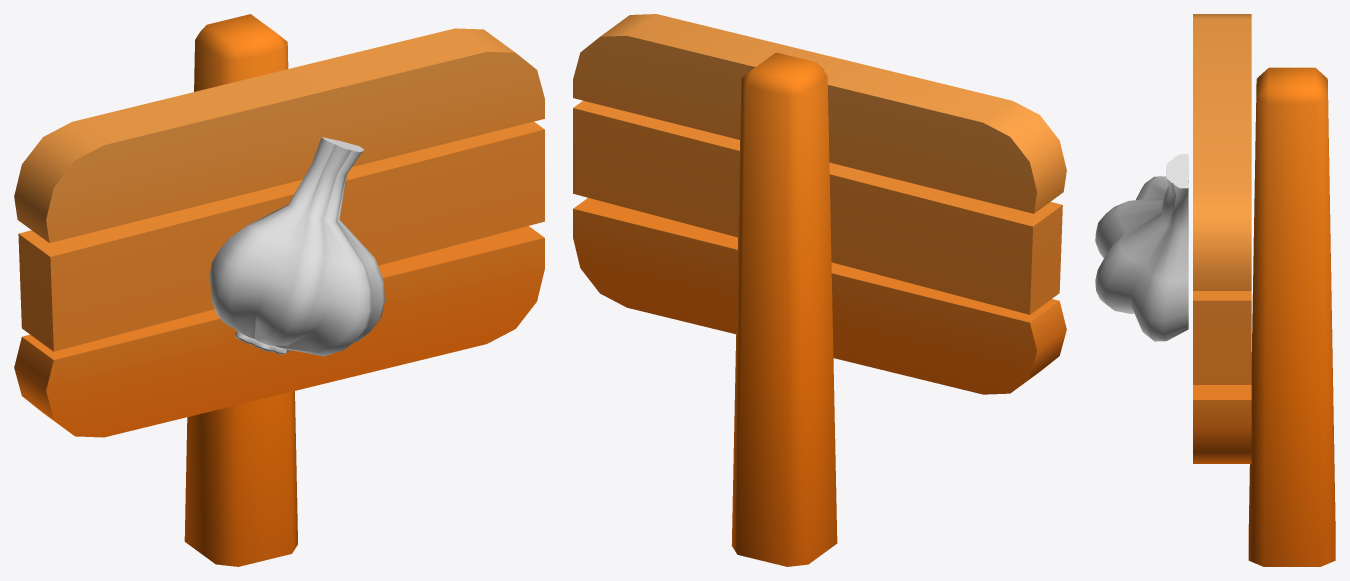
The model's file is Farm_Crop_Sign_Garlic_01.fbx.
3 renders of one model, left to right at view 1: azimuth 30°, elevation 25°; view 2: azimuth 150°, elevation 25°; view 3: azimuth 270°, elevation 25°, orthographic. The views are drawn at different scales.
Visible parts, largest first — view 1: Farm_Crop_Sign_Garlic_01; view 2: Farm_Crop_Sign_Garlic_01; view 3: Farm_Crop_Sign_Garlic_01.
Boxes of the visible parts, x1,y1,x2,y2 form: Farm_Crop_Sign_Garlic_01: [14, 14, 544, 566]; Farm_Crop_Sign_Garlic_01: [573, 14, 1066, 566]; Farm_Crop_Sign_Garlic_01: [1095, 14, 1335, 566].
Bounding box in the file's own units: 90.11 × 88.8 × 41.08.
